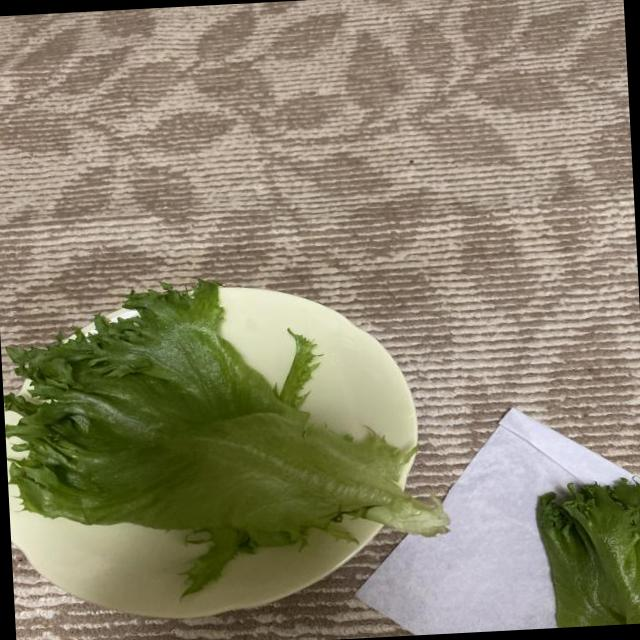Lettuce-Ready-to-Harvest: (4, 280, 448, 594), (537, 479, 640, 627)
